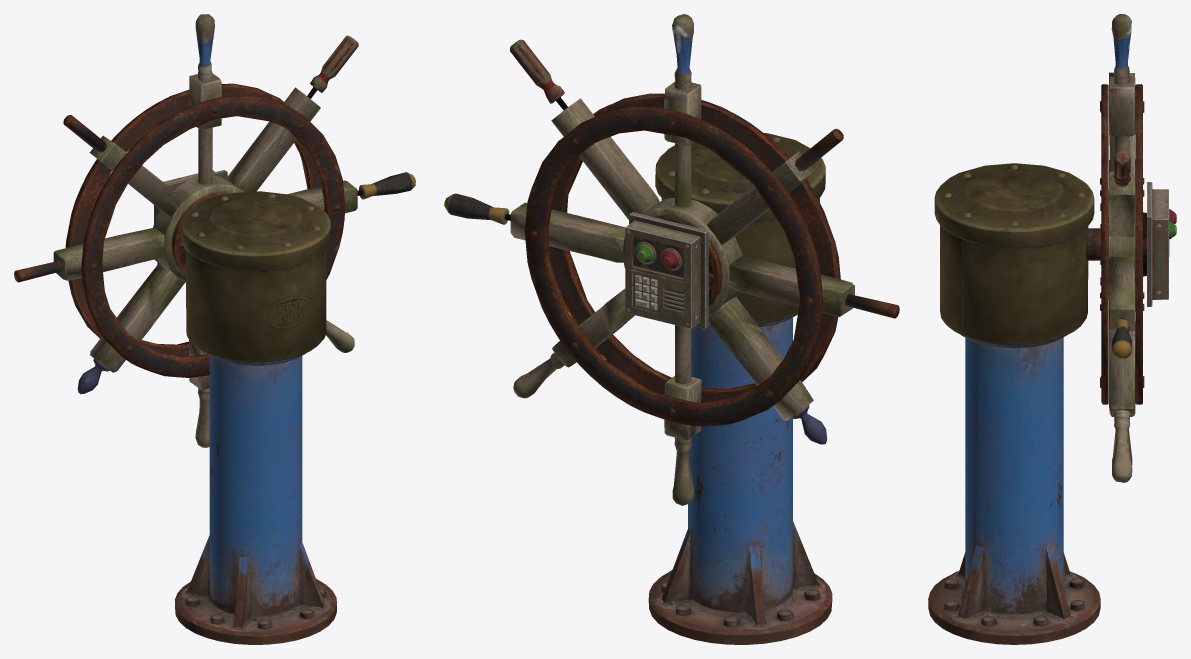
The model's file is steeringwheel.deployed.glb.
3 renders of one model, left to right at view 1: azimuth 30°, elevation 25°; view 2: azimuth 150°, elevation 25°; view 3: azimuth 270°, elevation 25°, orthographic. The views are drawn at different scales.
Visible parts, largest first — view 1: SteeringWheel_Tier2_Base, SteeringWheel_Tier2_Wheel; view 2: SteeringWheel_Tier2_Wheel, SteeringWheel_Tier2_Base, keypad 2; view 3: SteeringWheel_Tier2_Base, SteeringWheel_Tier2_Wheel, keypad 2.
Part boxes in pixels (x1,y1,x2,y2): SteeringWheel_Tier2_Base: (175,191,336,644); SteeringWheel_Tier2_Wheel: (14,14,415,447); SteeringWheel_Tier2_Wheel: (444,14,899,505); SteeringWheel_Tier2_Base: (648,133,832,644); keypad 2: (625,212,708,328); SteeringWheel_Tier2_Base: (928,163,1100,644); SteeringWheel_Tier2_Wheel: (1086,14,1146,482); keypad 2: (1147,182,1176,306).
Size of the model in its own units: 1.07 by 1.44 by 0.5473.
Materials: 2 (2 with a texture image).
